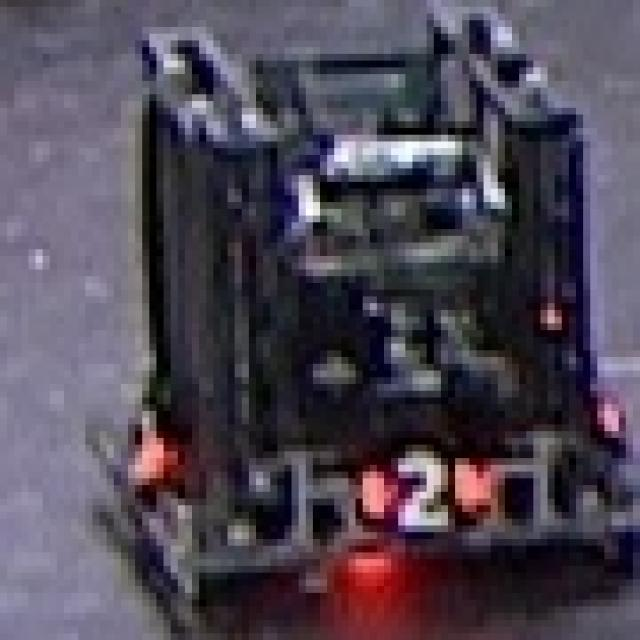R2: (327, 445, 505, 532), (114, 384, 192, 505)
